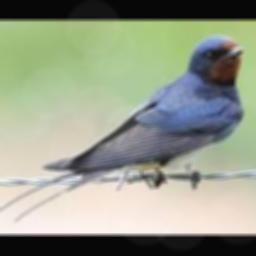Swallow: (0, 35, 245, 222)
